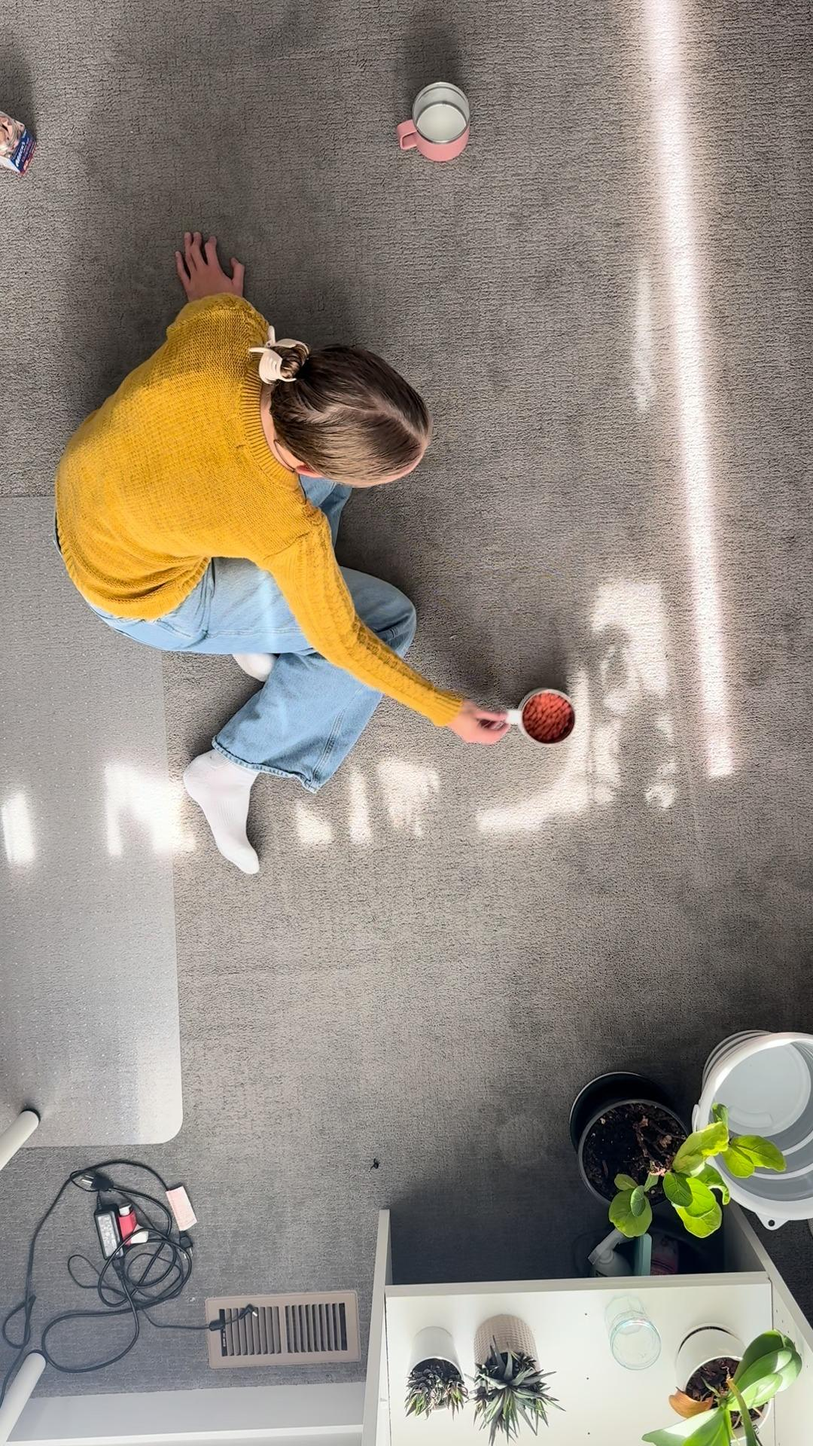IBC: (391, 70, 480, 167), (499, 675, 588, 759)
